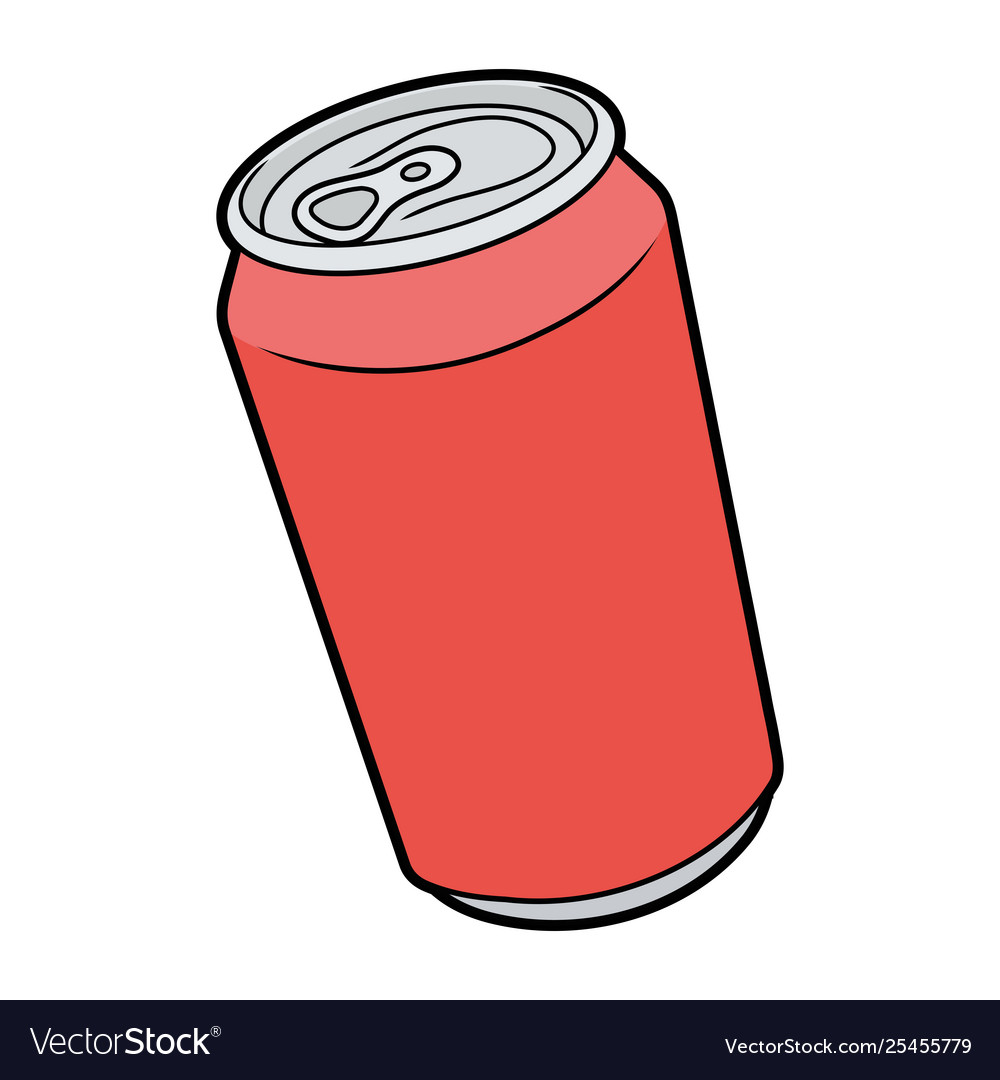can: (187, 51, 867, 941)
